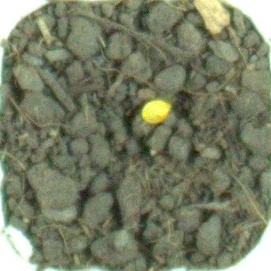pepper seed: (54, 36, 228, 161)
